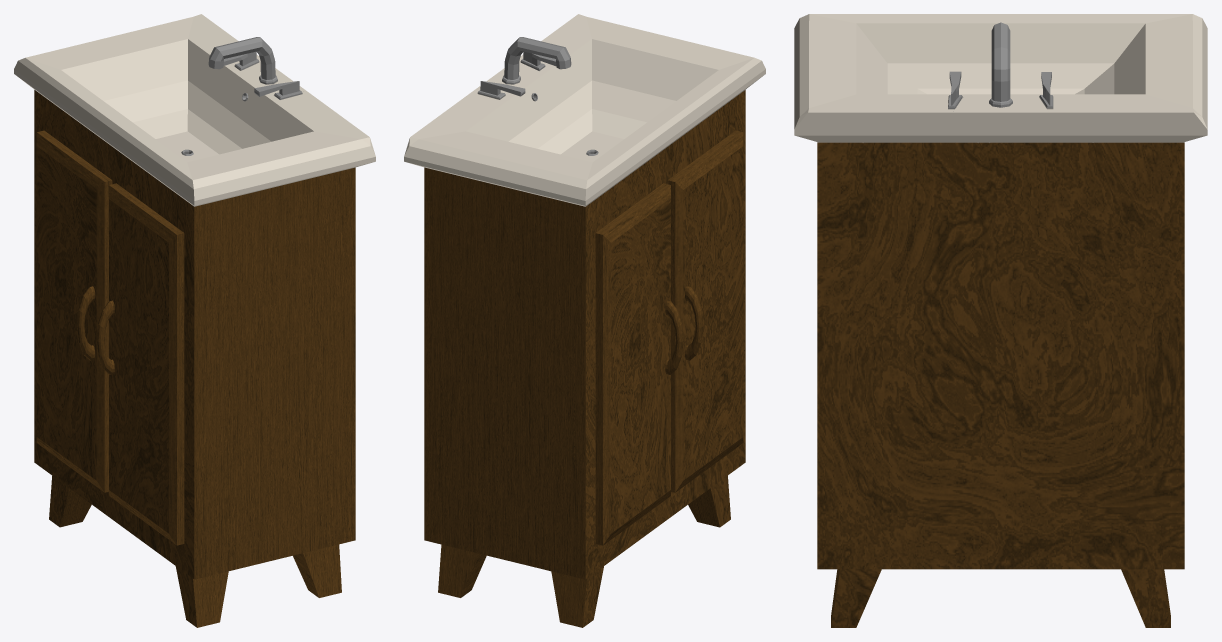
The model's file is Bathroom_Sink.glb.
The picture shows the model from 3 angles, left to right: view 1: azimuth 30°, elevation 25°; view 2: azimuth 150°, elevation 25°; view 3: azimuth 270°, elevation 25°; orthographic projection. The views are drawn at different scales.
Parts seen in each view (by area): view 1: Bathroom_sink; view 2: Bathroom_sink; view 3: Bathroom_sink.
Part boxes in pixels (x1=…): Bathroom_sink: x1=14, y1=14, x2=375, y2=627; Bathroom_sink: x1=404, y1=14, x2=765, y2=627; Bathroom_sink: x1=794, y1=14, x2=1207, y2=627.
Bounding box in the file's own units: 9.87 × 23.89 × 15.52.
Materials: 1 (1 with a texture image).
